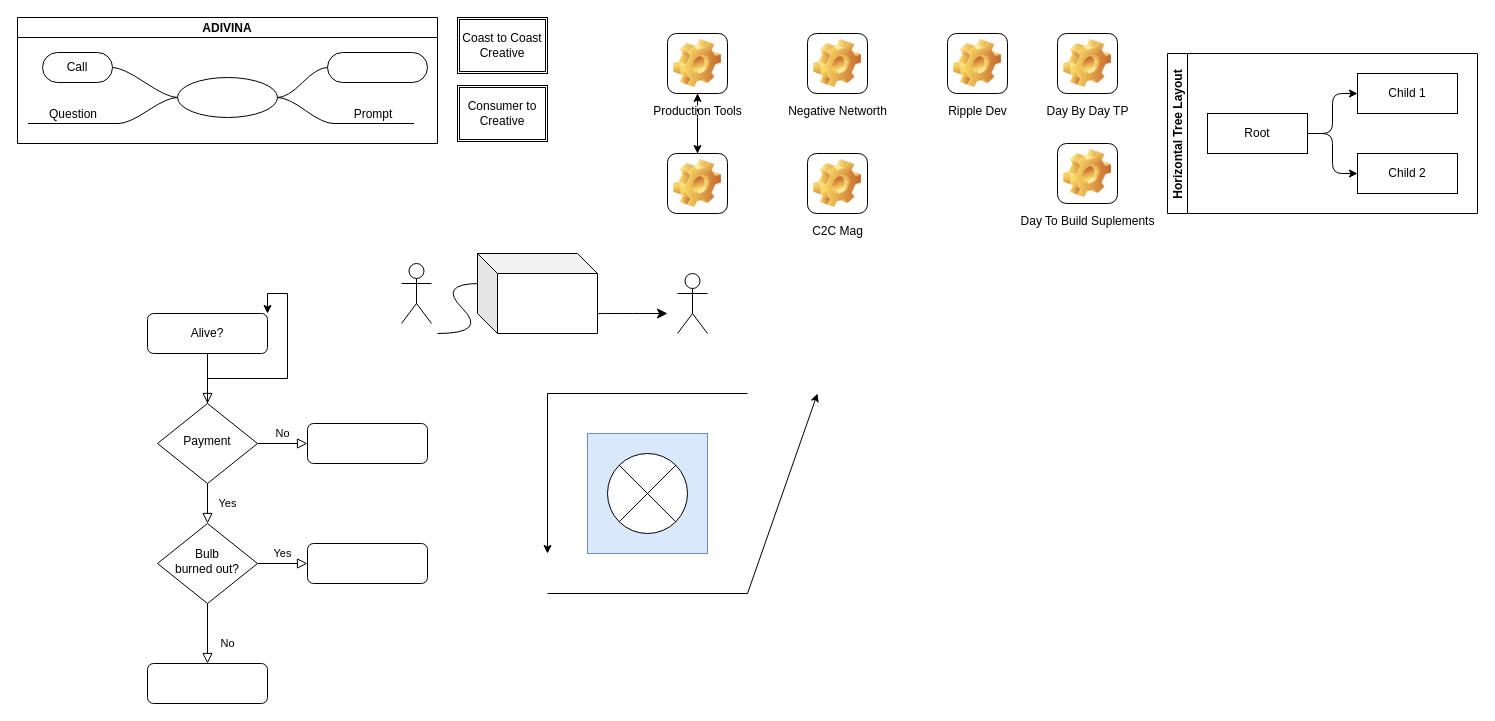
The diagram is 1495 pixels wide and 721 high, and some of its shapes have lost their labels. The shapes that lost their labels are listed below. From the top down, each one's centre as x and y in pixels, then its label:
At (x=377, y=67): "Response".
At (x=227, y=97): "Central Idea".
At (x=697, y=183): "Alphabet Prod".
At (x=416, y=293): "Me".
At (x=692, y=303): "Sugar".
At (x=367, y=443): "Plug in lamp".
At (x=367, y=563): "Replace Bulb".
At (x=207, y=683): "Repair Lamp".
